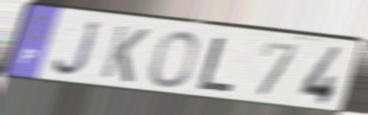4: (296, 44, 342, 107)
7: (256, 39, 299, 99)
J: (51, 19, 104, 79)
K: (98, 23, 152, 85)
L: (195, 35, 237, 94)
O: (148, 30, 200, 90)
